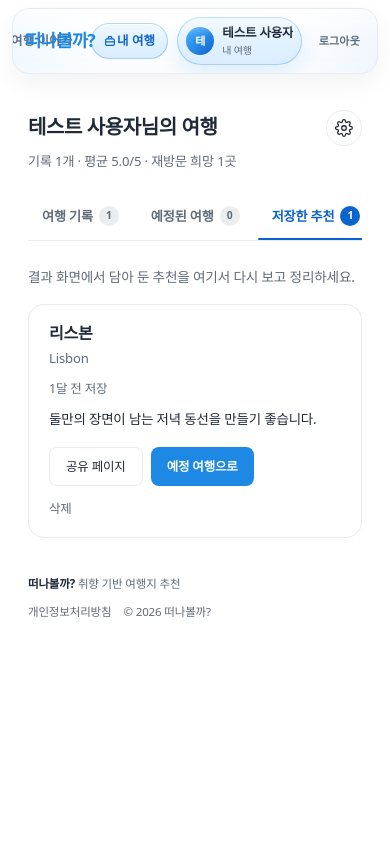
Test: AccountExperience future trips tab › promotes a saved snapshot into the planned list without forcing a tab change
Click the button with test id "saved-plan-0" at {"x": 202, "y": 467}, box x1=151 y1=447 x2=254 y2=486
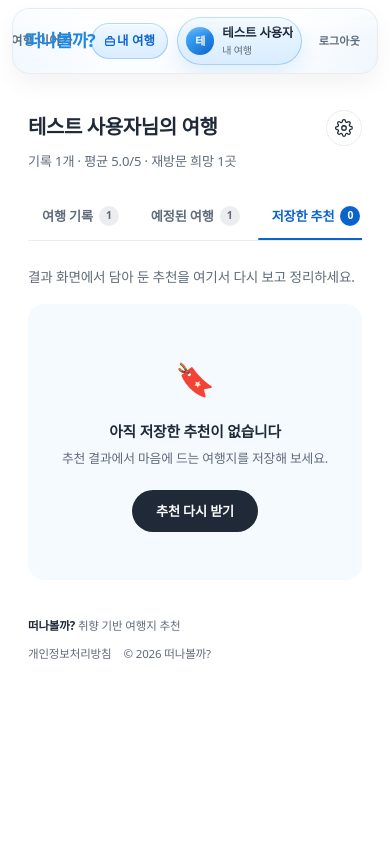
Check: the element with test id "saved-snapshot-0" is gone
Check: the text "아직 저장한 추천이 없습니다" is shown, box x1=109 y1=419 x2=281 y2=444
Click the tab with test id "account-tab-future-trips" at {"x": 195, "y": 218}, box x1=137 y1=196 x2=254 y2=240
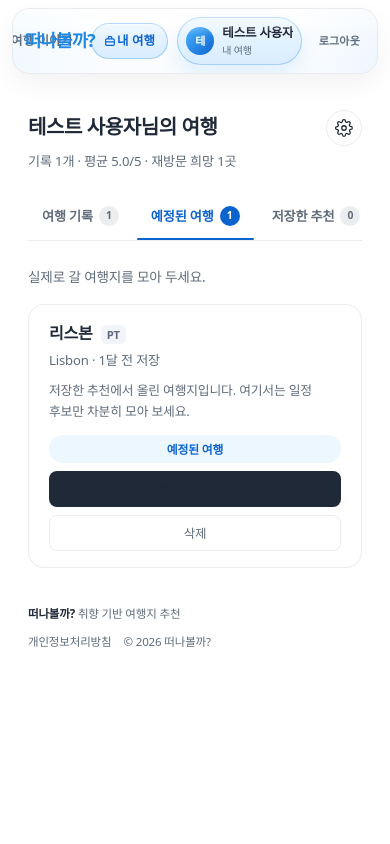
Check: the element with test id "future-trip-entry-0" is shown, box x1=28 y1=304 x2=362 y2=568
